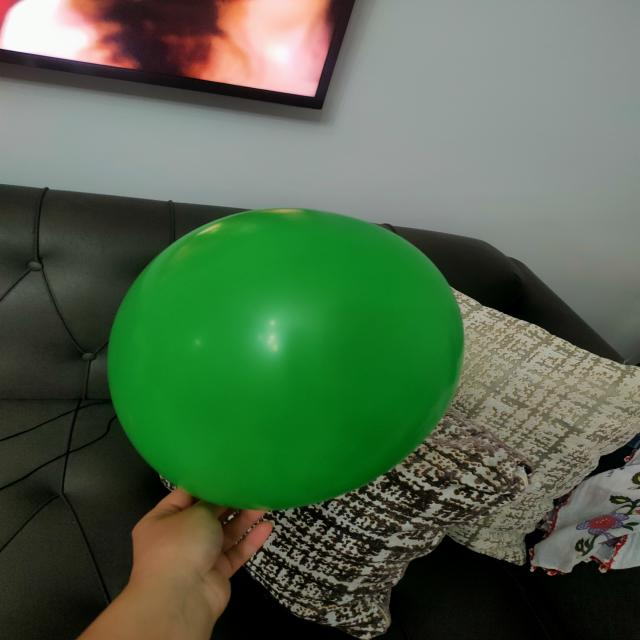green: (107, 209, 467, 513)
